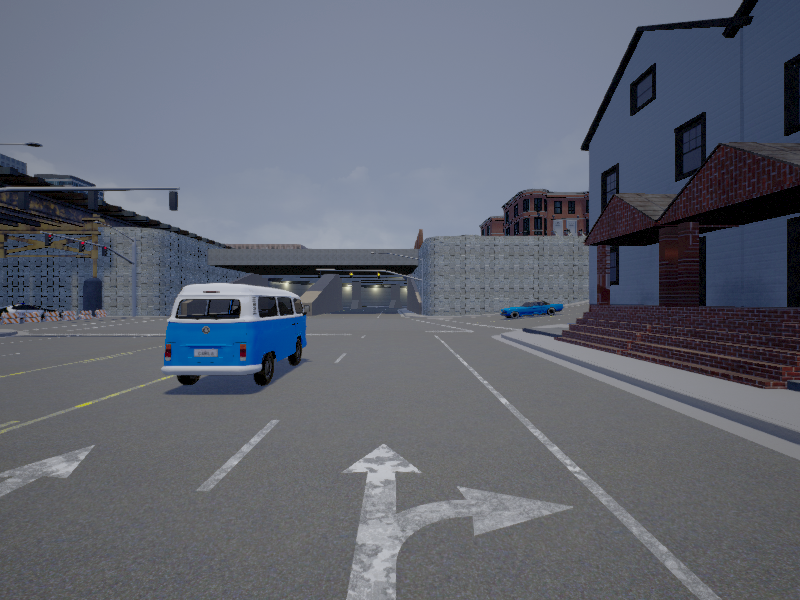Benign: (165, 284, 308, 387), (502, 299, 564, 319)
